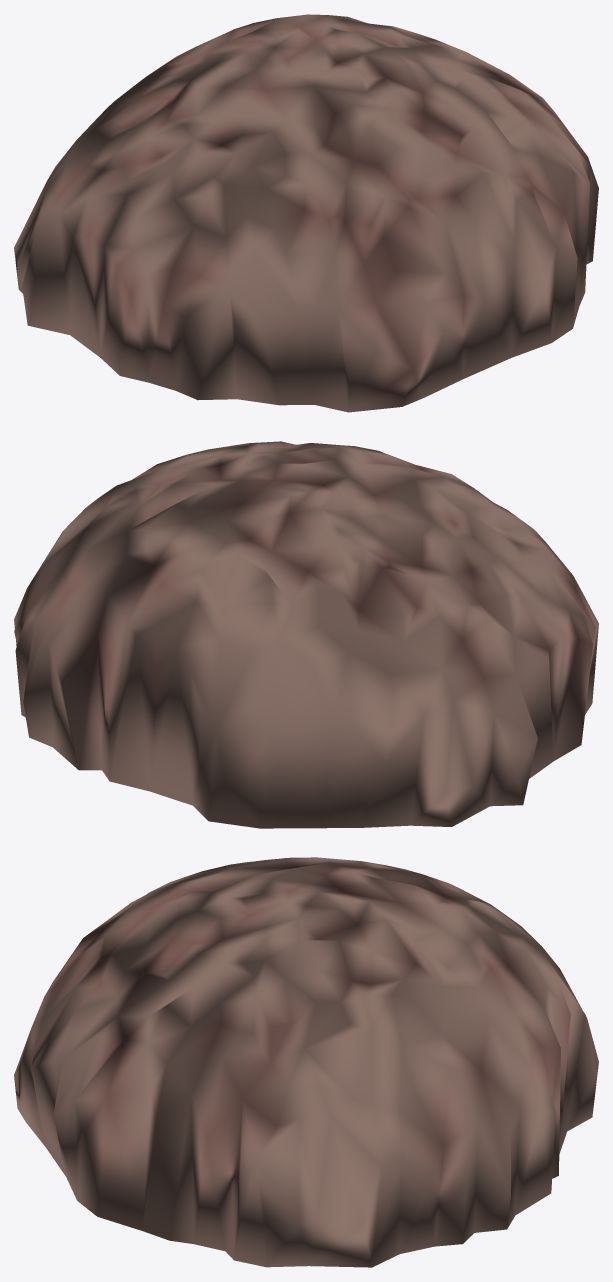
File: massive-tabulate-coral.glb
3 views of the same model, one above another, from view 1: azimuth 30°, elevation 25°; view 2: azimuth 150°, elevation 25°; view 3: azimuth 270°, elevation 25° (orthographic). The views are drawn at different scales.
Parts seen in each view (by area): view 1: massive-tabulate-coral; view 2: massive-tabulate-coral; view 3: massive-tabulate-coral.
Part boxes in pixels (x1,y1,x2,y2): massive-tabulate-coral: [14, 14, 598, 412]; massive-tabulate-coral: [14, 441, 598, 828]; massive-tabulate-coral: [14, 857, 598, 1267].
Bounding box in the file's own units: 0.6719 × 0.3 × 0.6189.
